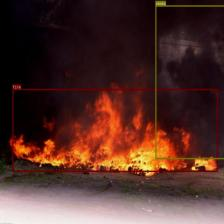fire: (12, 89, 218, 172)
smoke: (155, 4, 224, 159)
